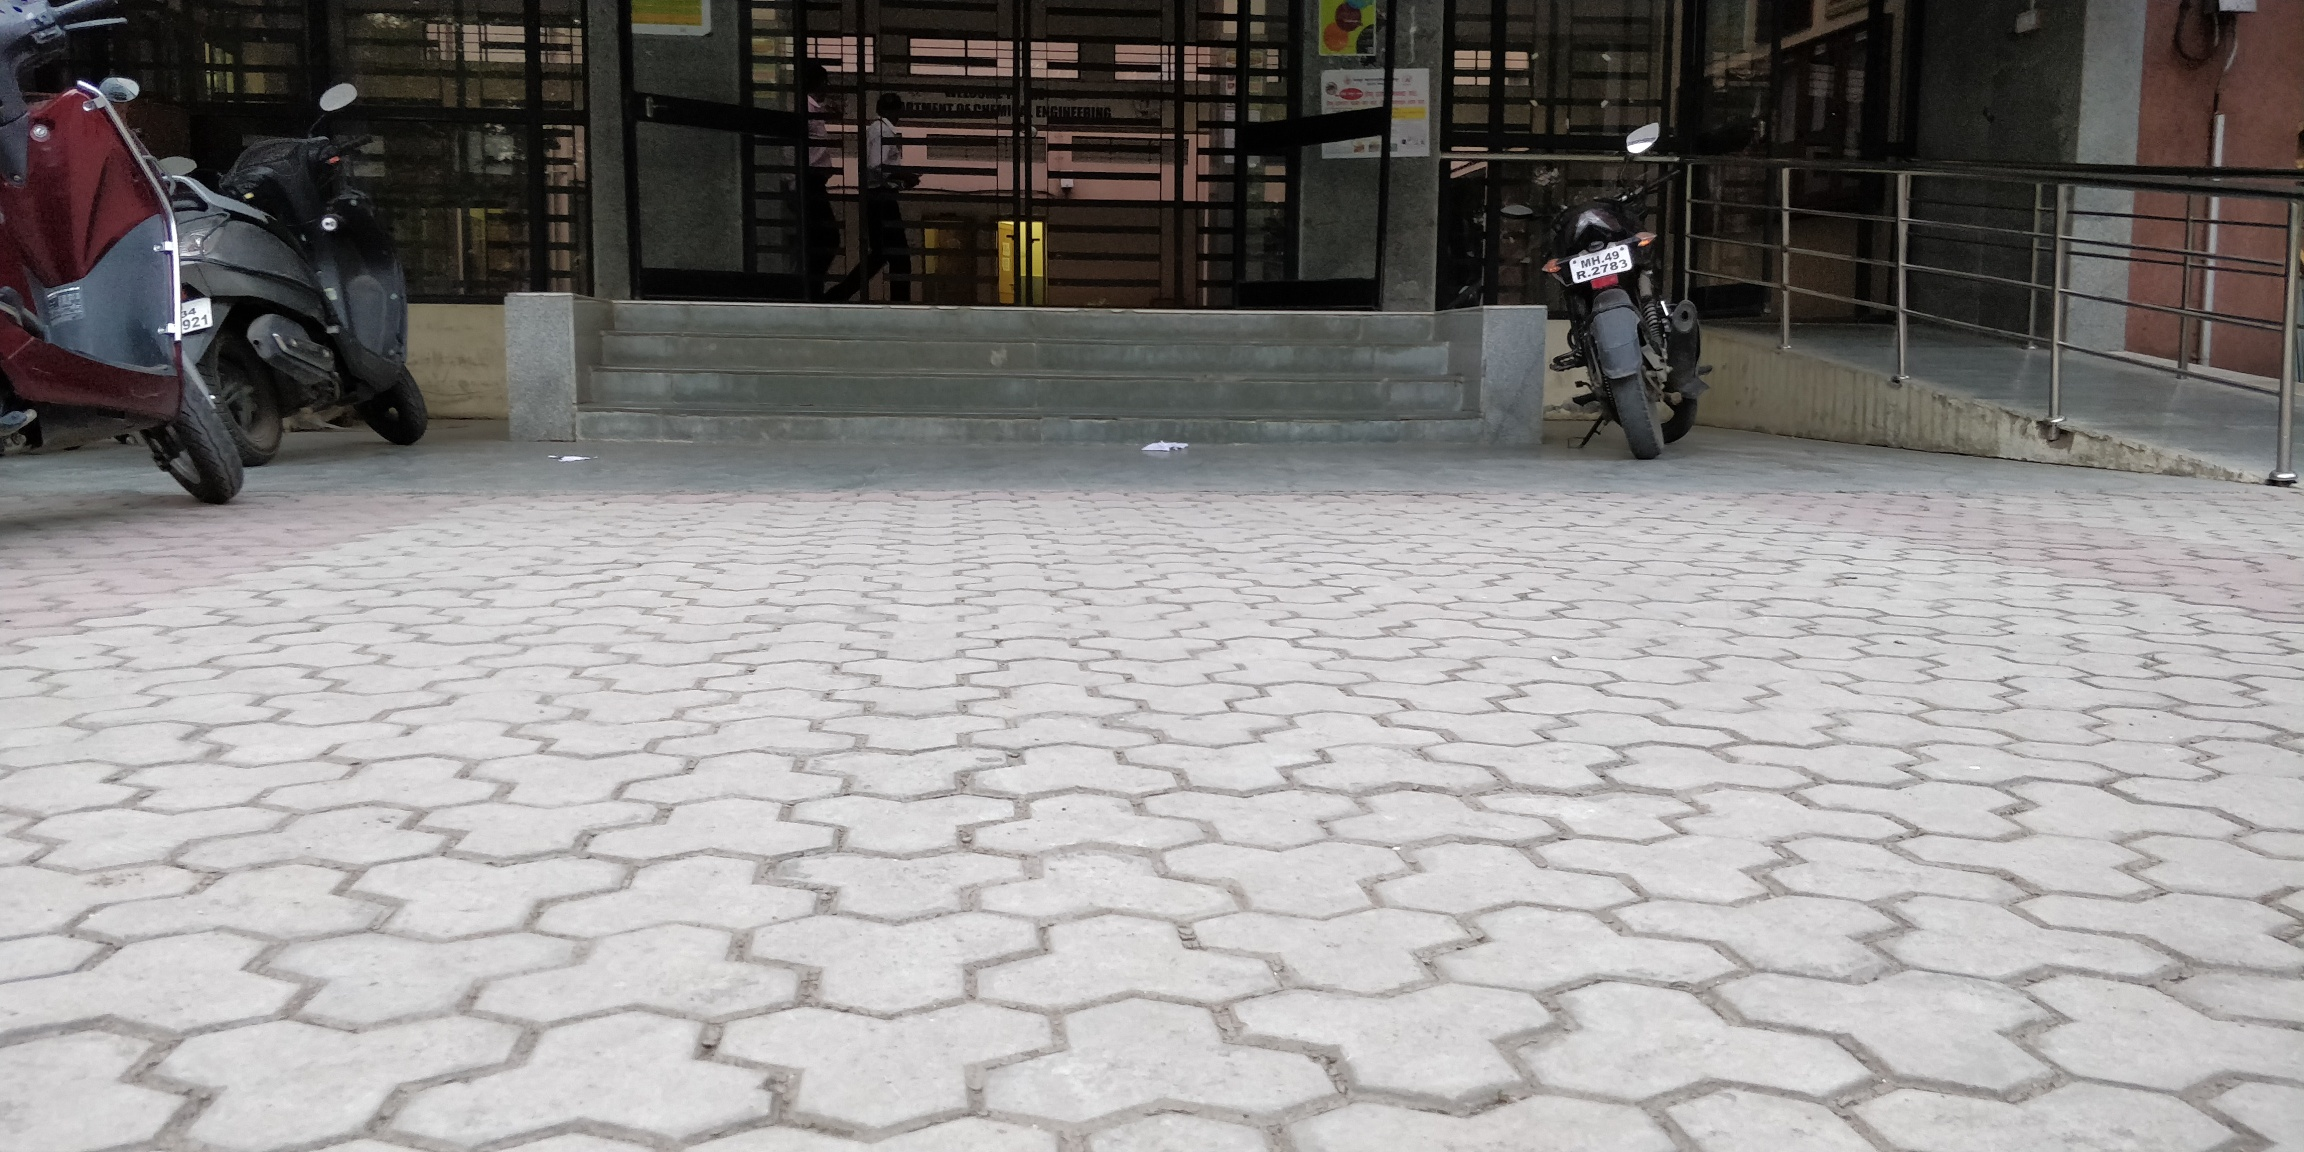stairs_up: (589, 292, 1483, 470)
